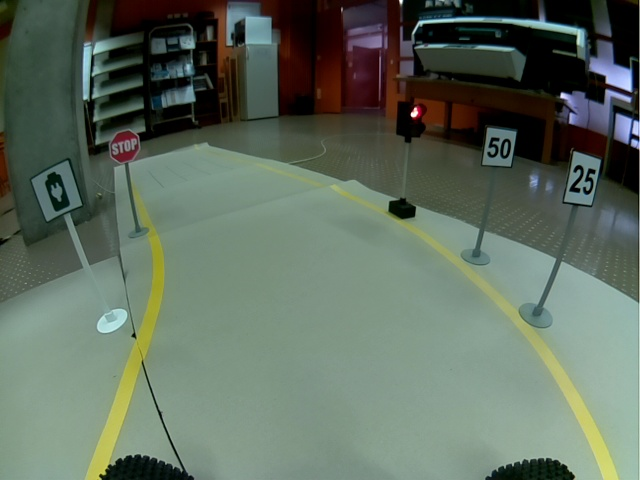battery: (30, 158, 85, 223)
speed25: (563, 148, 603, 208)
speed50: (481, 124, 518, 168)
stop: (109, 129, 141, 163)
trafficLightRed: (396, 100, 427, 138)
